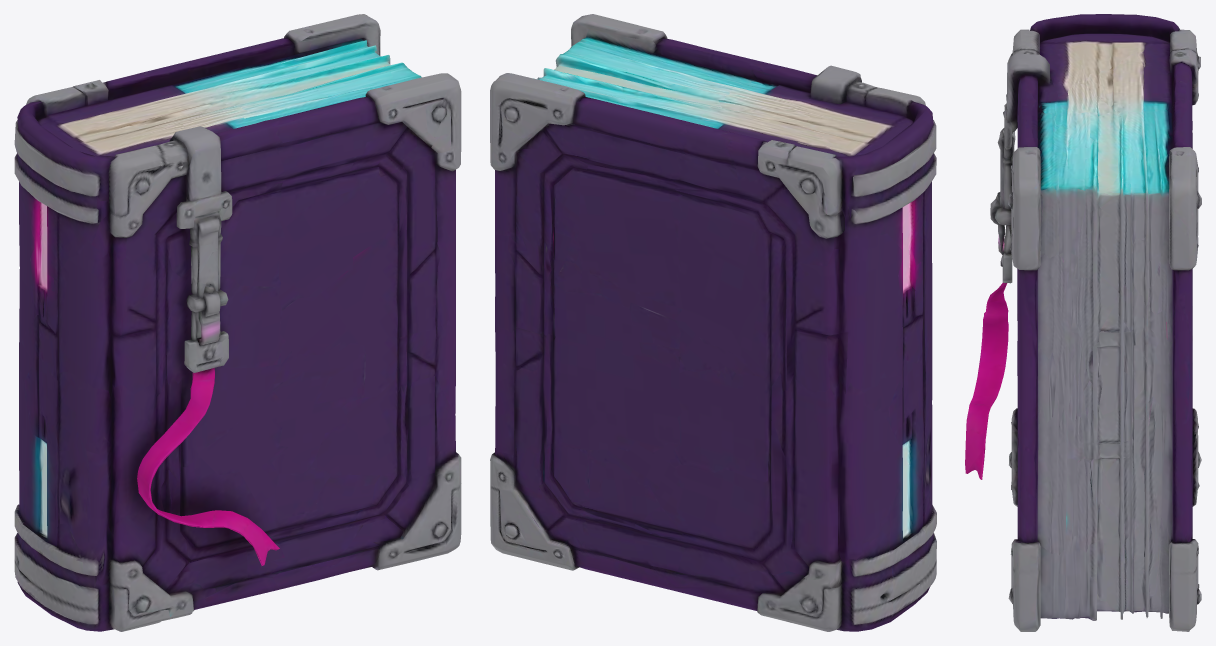
The model's file is decor-tome.glb.
The picture shows the model from 3 angles, left to right: view 1: azimuth 30°, elevation 25°; view 2: azimuth 150°, elevation 25°; view 3: azimuth 270°, elevation 25°; orthographic projection. The views are drawn at different scales.
Visible parts, largest first — view 1: body; view 2: body; view 3: body.
Part boxes in pixels (box(x1,y1,x2,y2)): body: box(14, 14, 461, 631); body: box(490, 14, 936, 631); body: box(965, 14, 1201, 631).
Bounding box in the file's own units: 0.8263 × 0.9995 × 0.4691.
1 material, 1 textured.
